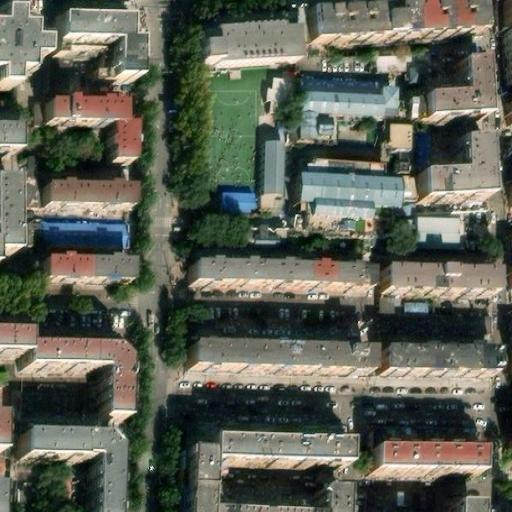building: (303, 4, 478, 48), (22, 350, 121, 426), (16, 436, 114, 512), (41, 98, 129, 161), (177, 341, 357, 371), (50, 23, 134, 86), (183, 259, 364, 287), (415, 138, 489, 205), (192, 21, 292, 67), (420, 63, 484, 128), (292, 126, 382, 172), (205, 439, 343, 466), (375, 350, 488, 380), (377, 266, 488, 296), (294, 189, 398, 221), (38, 176, 128, 205), (37, 251, 126, 280), (367, 449, 473, 473), (40, 217, 127, 244), (287, 219, 373, 246), (368, 430, 473, 451), (293, 103, 377, 128), (255, 147, 281, 223), (293, 83, 378, 105), (205, 428, 343, 441), (413, 219, 460, 254), (304, 171, 381, 191), (180, 451, 205, 512), (381, 130, 410, 176), (217, 188, 256, 222), (260, 79, 290, 118), (0, 29, 25, 74), (238, 231, 286, 252), (498, 0, 512, 69), (0, 384, 13, 447), (0, 173, 10, 251), (0, 121, 24, 151), (317, 487, 343, 512), (444, 497, 485, 512), (377, 92, 396, 122), (182, 428, 205, 451), (204, 508, 318, 512)
